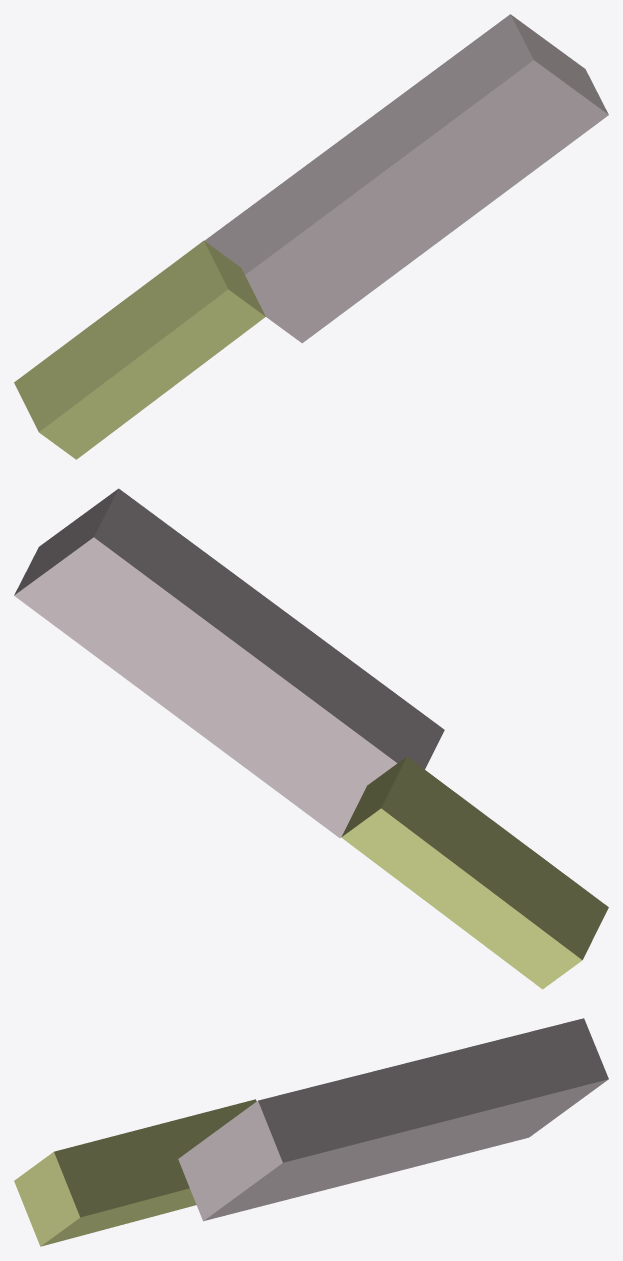
The picture shows the model from 3 angles, top to bottom: view 1: azimuth 30°, elevation 25°; view 2: azimuth 150°, elevation 25°; view 3: azimuth 330°, elevation 25°; orthographic projection. The views are drawn at different scales.
Parts seen in each view (by area): view 1: 0_1_1_3_2_0_2_1; view 2: 0_1_1_3_2_0_2_1; view 3: 0_1_1_3_2_0_2_1.
Boxes of the visible parts, x1,y1,x2,y2 form: 0_1_1_3_2_0_2_1: (14, 14, 608, 459); 0_1_1_3_2_0_2_1: (14, 488, 608, 989); 0_1_1_3_2_0_2_1: (14, 1018, 608, 1246).
Size of the model in its own units: 48.05 by 26.62 by 12.
